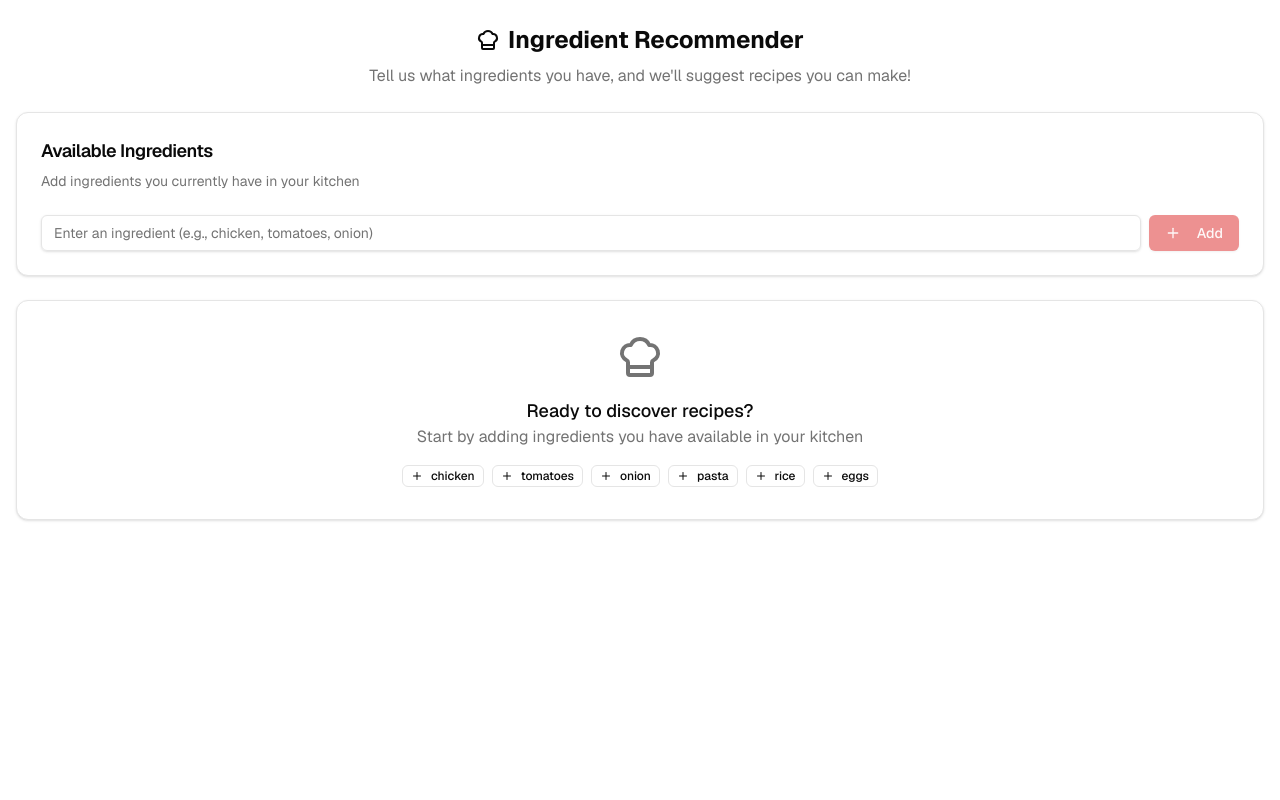
IngredientRecommender › Preferences and Filters › should show preferences section when ingredients are added
Type "tomato" into the field with placeholder "Enter an ingredient (e.g., chicken, tomatoes, onion)". click: {"x": 591, "y": 233}
box: [41, 215, 1141, 251]
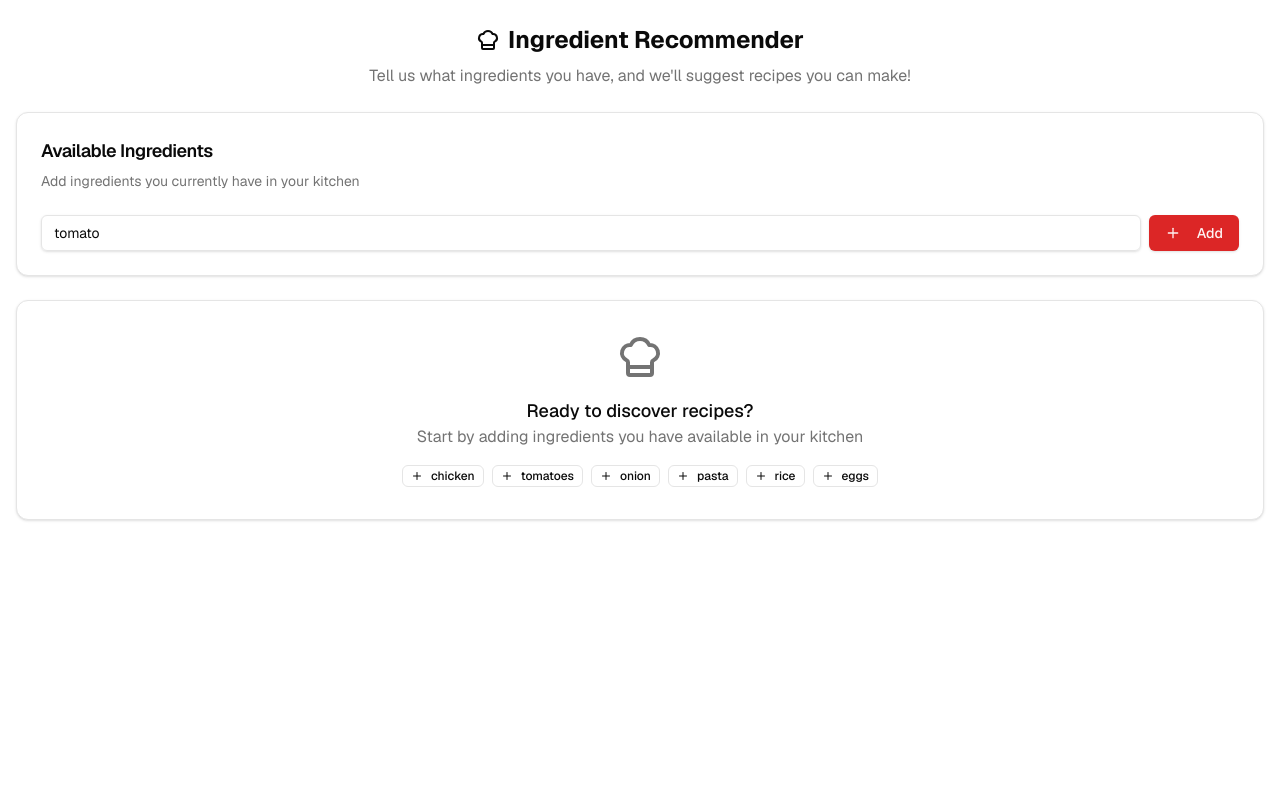
Click the button. click: {"x": 1194, "y": 233}
box: [1149, 215, 1239, 251]
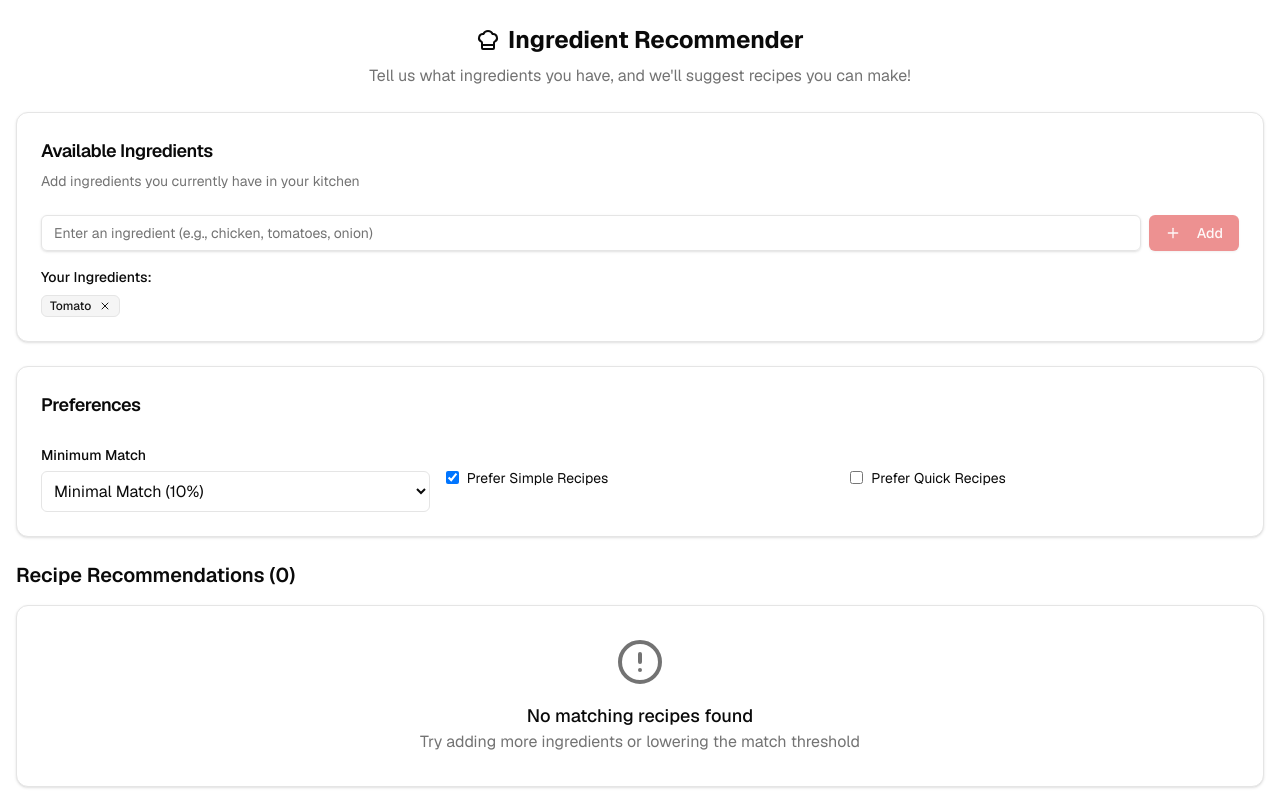
Result: the text "Preferences" is shown at [41, 393, 140, 416]
